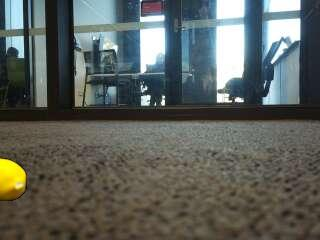lemon: (0, 158, 25, 199)
